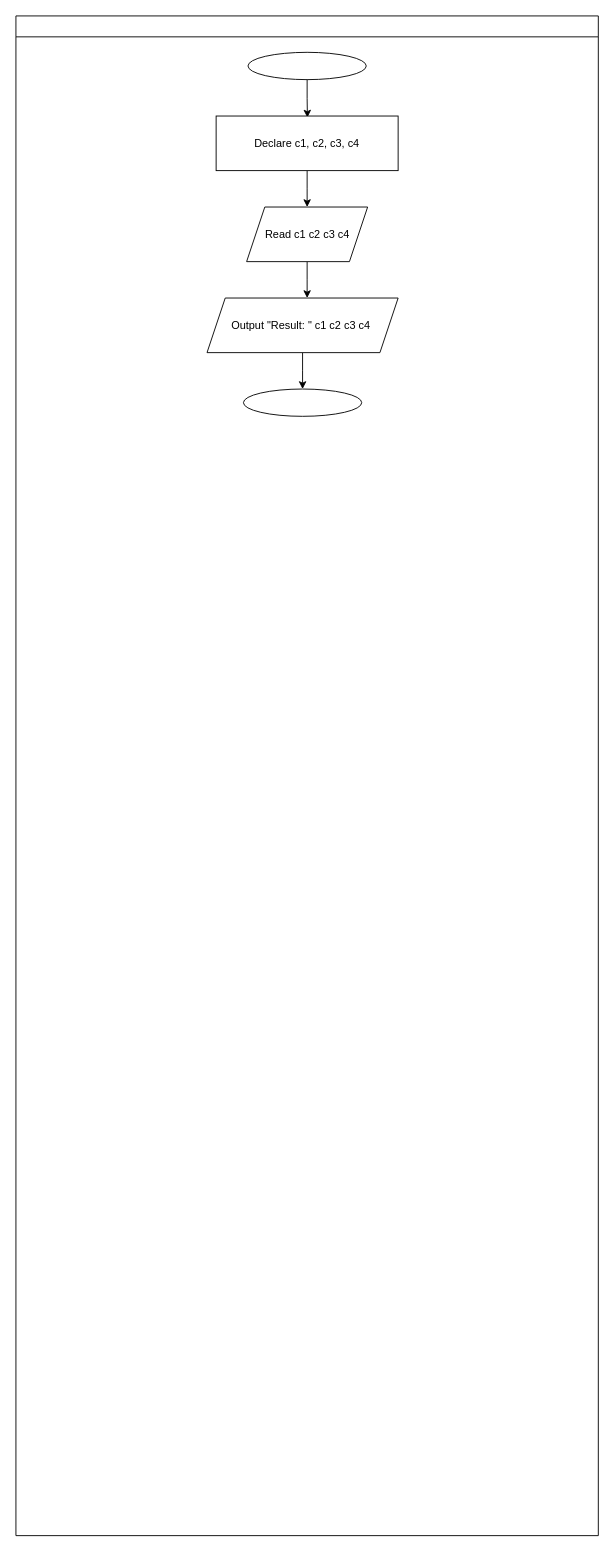
Image size: 614x1552. Some labels were removed from this diagram. Here are the shapes that lost their labels. From the top down, the box of each, then its label:
(247, 51, 366, 80): Start
(243, 388, 362, 416): END
